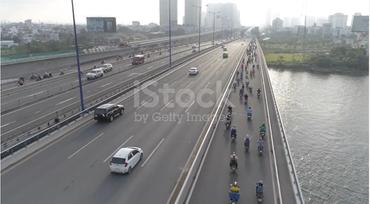car: (107, 140, 146, 179), (92, 100, 130, 125), (84, 66, 109, 84), (130, 55, 150, 67), (98, 62, 113, 72), (188, 65, 199, 78), (221, 51, 229, 60)
motorcycle: (253, 180, 269, 204), (228, 180, 243, 204), (256, 137, 269, 157), (229, 150, 238, 178), (243, 136, 250, 154), (259, 125, 267, 140), (230, 129, 237, 144), (246, 110, 253, 121), (256, 90, 263, 100), (243, 95, 249, 106), (226, 117, 230, 132)
